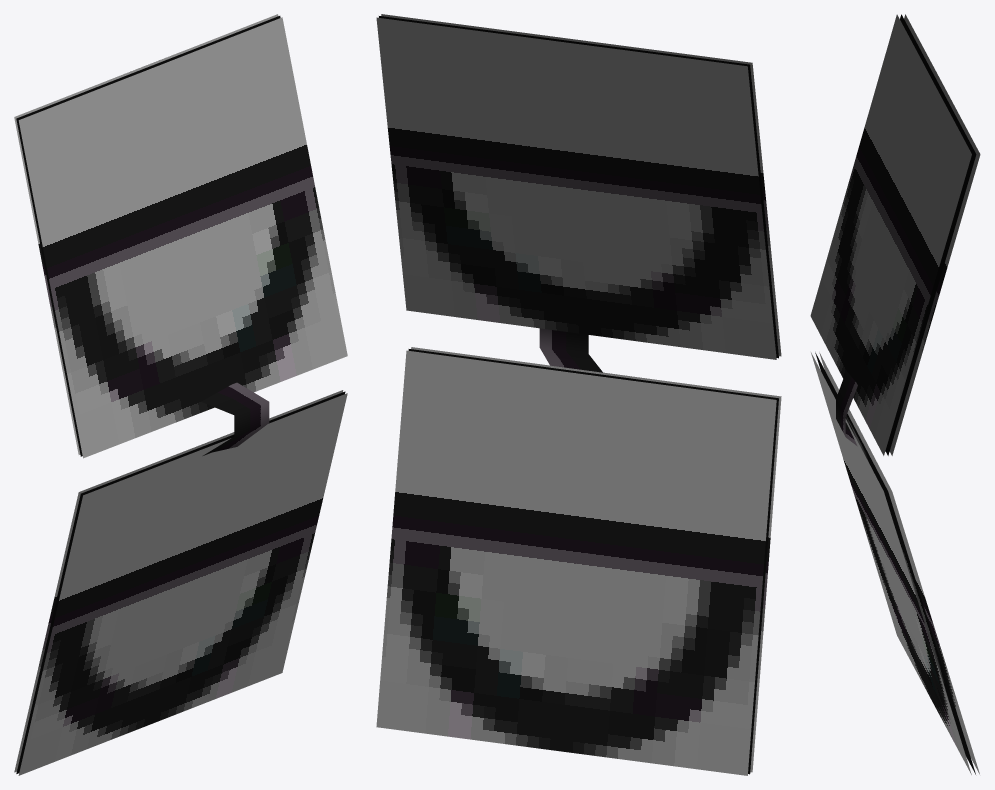
File: acc_glass_retro.dae
3 views of the same model, side by side, from view 1: azimuth 30°, elevation 25°; view 2: azimuth 150°, elevation 25°; view 3: azimuth 270°, elevation 25° (orthographic). The views are drawn at different scales.
Parts seen in each view (by area): view 1: acc_glass_retro; view 2: acc_glass_retro; view 3: acc_glass_retro.
Part boxes in pixels (bbox=[...]): acc_glass_retro: bbox=[14, 14, 347, 775]; acc_glass_retro: bbox=[376, 14, 781, 775]; acc_glass_retro: bbox=[810, 14, 980, 774].
Bounding box in the file's own units: 9.45 × 18.37 × 4.55.
Materials: 2 (2 with a texture image).
